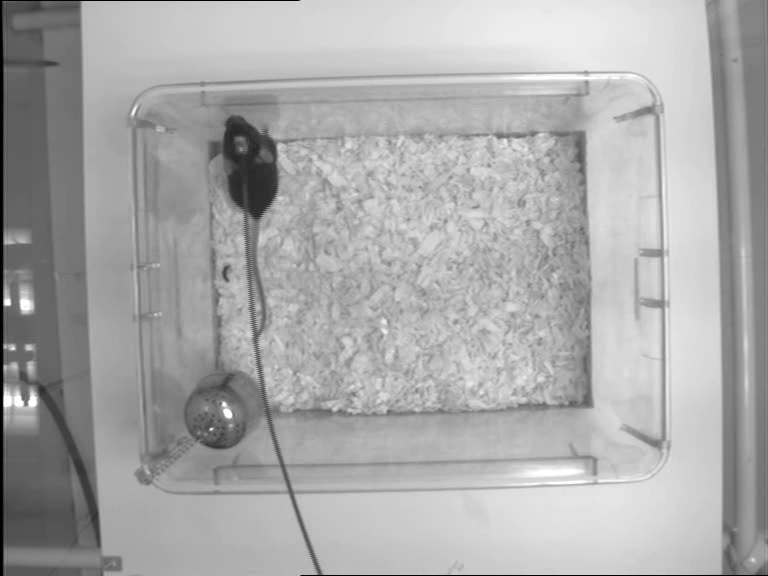mice: (220, 113, 283, 344)
